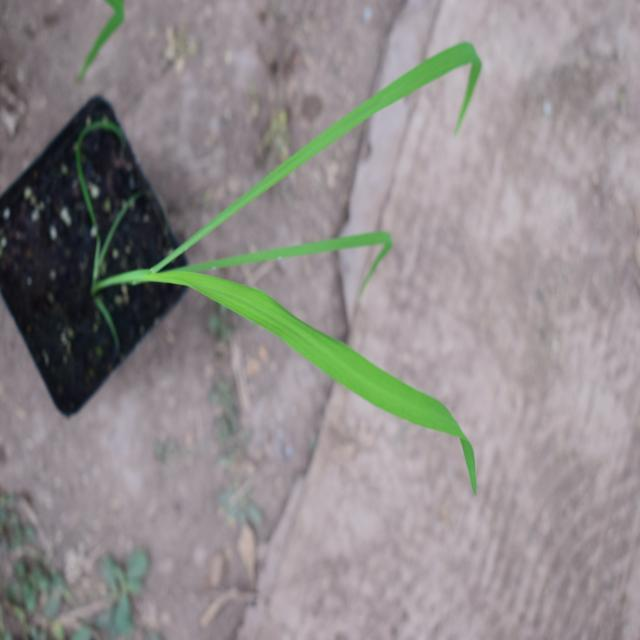barnyard_grass: (142, 21, 518, 521)
